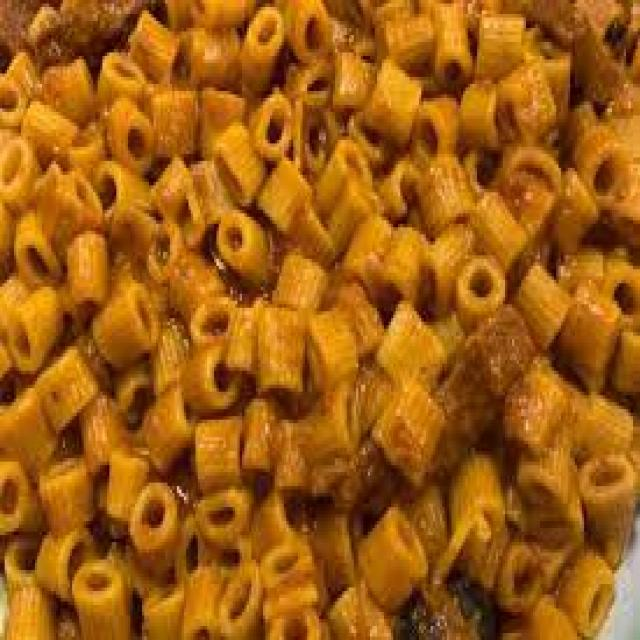Pasta: (6, 1, 639, 622)
